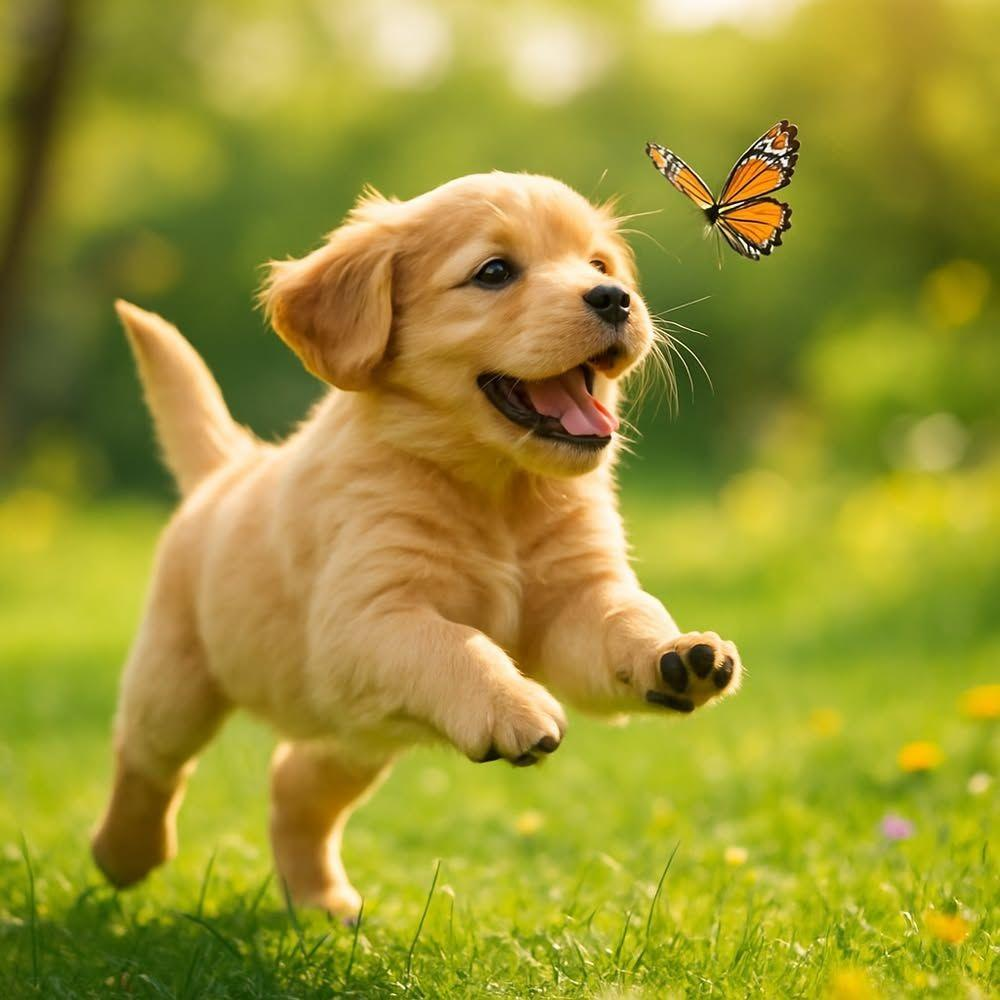non-dog: (644, 119, 801, 264)
puppy-dog: (88, 170, 747, 925)
